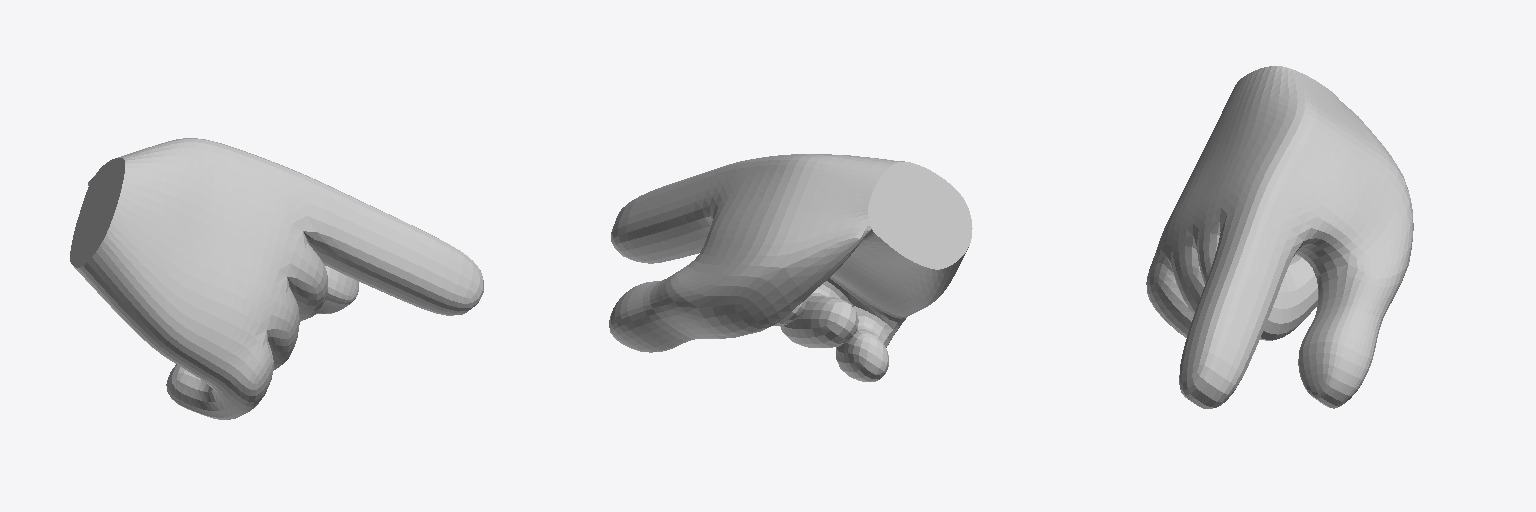
The picture shows the model from 3 angles: view 1: azimuth 30°, elevation 25°; view 2: azimuth 150°, elevation 25°; view 3: azimuth 270°, elevation 25°; orthographic projection.
Parts seen in each view (by area): view 1: Q_HAND; view 2: Q_HAND; view 3: Q_HAND.
Part boxes in pixels (x1,y1,x2,y2): Q_HAND: (70, 138, 483, 419); Q_HAND: (609, 154, 972, 381); Q_HAND: (1146, 66, 1413, 408).
Bounding box in the file's own units: 182 × 117 × 113.